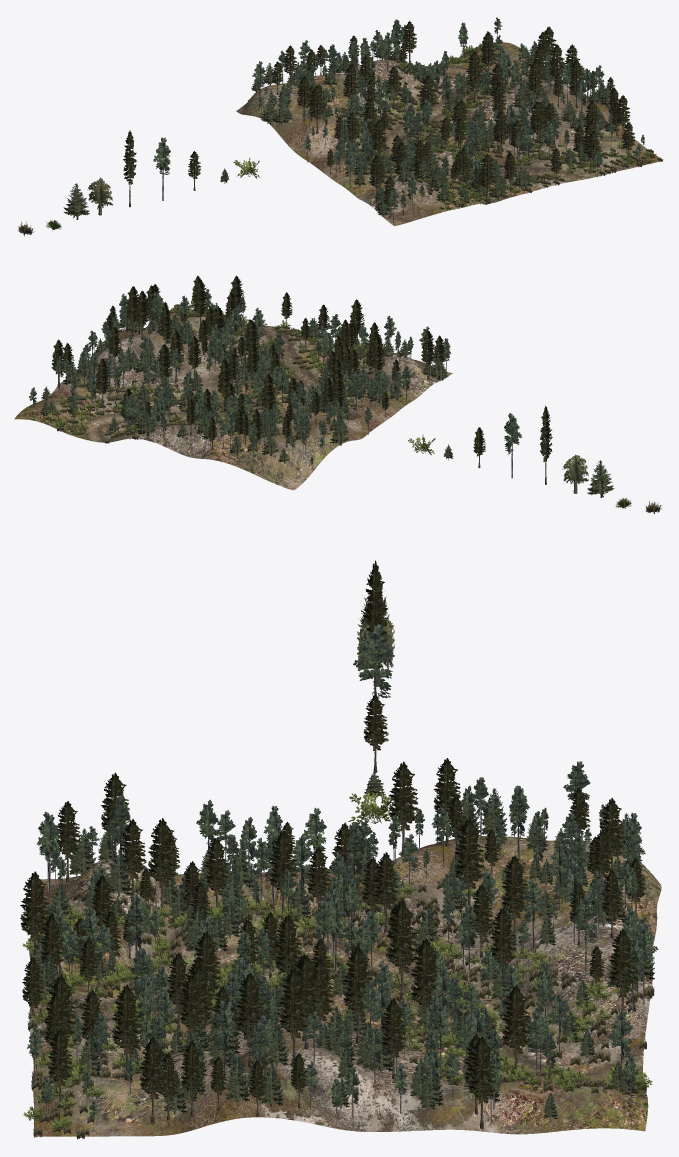
Rendered from floresta.glb.
The picture shows the model from 3 angles, top to bottom: view 1: azimuth 30°, elevation 25°; view 2: azimuth 150°, elevation 25°; view 3: azimuth 270°, elevation 25°; orthographic projection. The views are drawn at different scales.
Visible parts, largest first — view 1: F647, F651, F650, F1, F477, F591, F543, F527, F489, F615, F573, F483 (+3 smaller); view 2: F647, F651, F650, F1, F477, F527, F617, F621, F615, F499; view 3: F647, F1, F569, F527, F629, F617, F499, F489, F615, F543, F591, F645 (+26 smaller).
Boxes of the visible parts, x1,y1,x2,y2 form: F647: (236,42,662,226); F651: (87,177,112,215); F650: (63,183,89,219); F1: (153,137,170,200); F477: (123,130,136,193); F591: (466,51,483,96); F543: (479,154,495,196); F527: (343,64,359,98); F489: (309,85,325,119); F615: (480,31,496,65); F573: (493,110,509,144); F483: (369,155,384,188); F647: (14,307,452,490); F651: (562,454,588,493); F650: (587,460,614,497); F1: (504,413,521,478); F477: (540,405,552,477); F527: (261,373,276,410); F617: (193,280,208,316); F621: (135,290,150,327); F615: (95,358,110,393); F499: (370,335,385,371); F647: (29,836,661,1136); F1: (353,624,393,715); F569: (386,900,418,975); F527: (454,818,486,891); F629: (279,967,309,1039); F617: (112,984,143,1071); F499: (148,818,178,895); F489: (388,761,419,832); F615: (501,985,532,1056); F543: (20,871,49,943); F591: (410,938,441,1027); F645: (468,1036,497,1118).
Size of the model in its own units: 61.56 by 9.12 by 31.17.
Materials: 3 (3 with a texture image).
